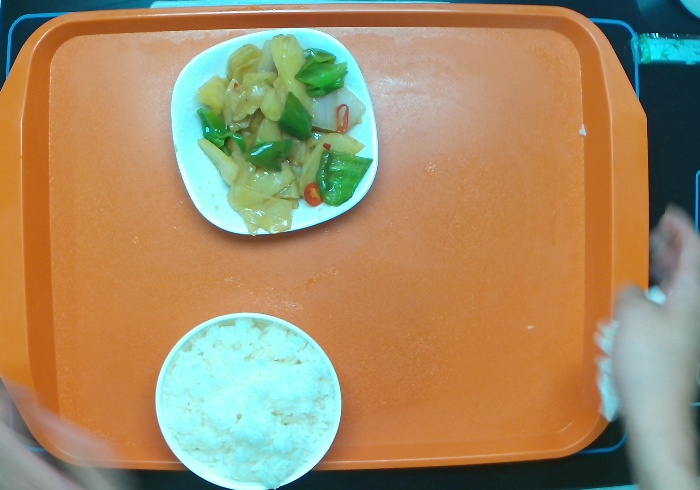ZNLD-Fan_Wan: (153, 309, 343, 490)
ZNLD-Si_Fang_Wan: (169, 25, 381, 236)
